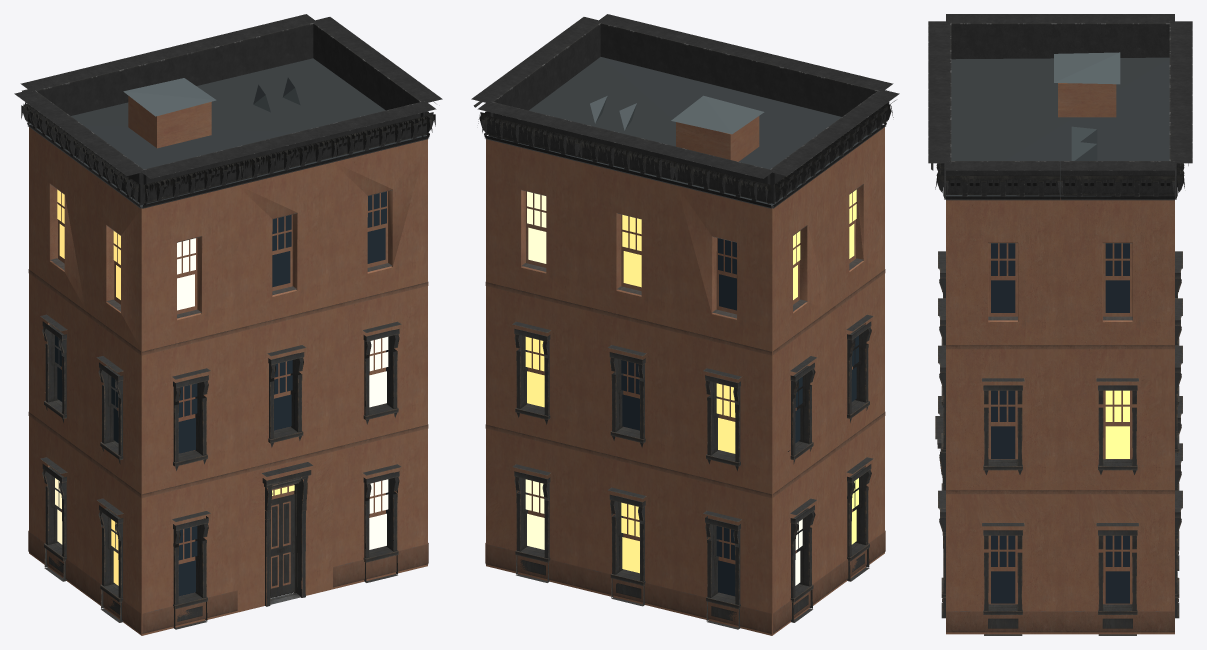
The model's file is apartment_a.glb.
3 renders of one model, left to right at view 1: azimuth 30°, elevation 25°; view 2: azimuth 150°, elevation 25°; view 3: azimuth 270°, elevation 25°, orthographic.
Parts seen in each view (by area): view 1: Apartment_A; view 2: Apartment_A; view 3: Apartment_A.
Part boxes in pixels (x1,y1,x2,y2): Apartment_A: (14, 14, 442, 635); Apartment_A: (471, 14, 899, 635); Apartment_A: (928, 14, 1192, 635).
Size of the model in its own units: 6.96 by 9.8 by 4.96.
Materials: 9 (4 with a texture image).
